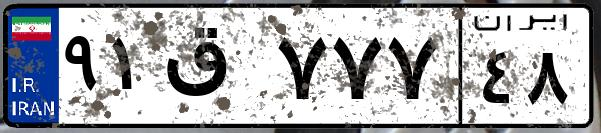1: (110, 28, 158, 98)
4: (475, 38, 525, 113)
7: (270, 28, 330, 110), (385, 28, 445, 110), (330, 28, 385, 110)
8: (525, 38, 570, 115)
9: (57, 26, 110, 100)
ق: (158, 20, 270, 120)
